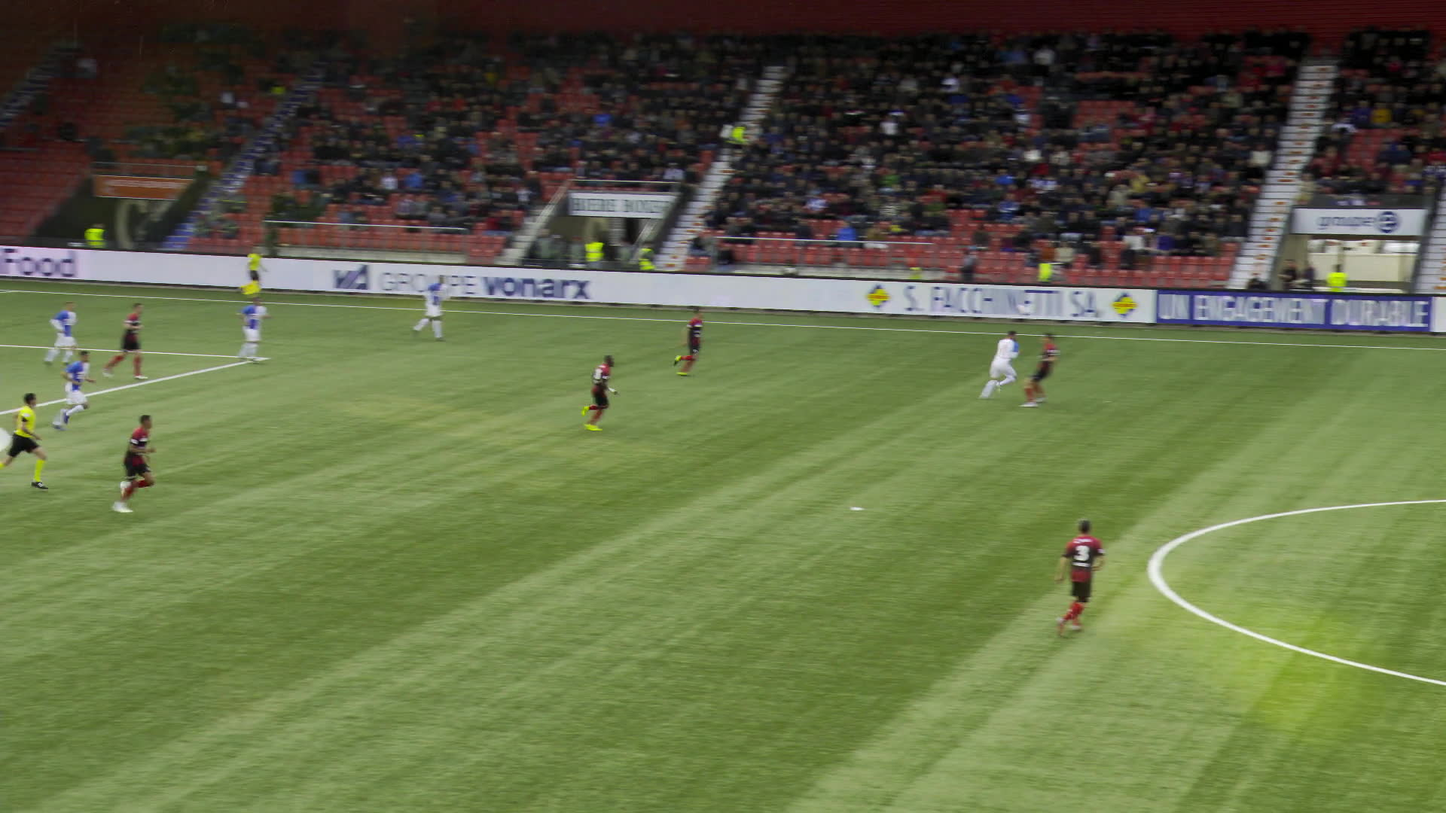ball: (1018, 304, 1034, 313)
player: (1062, 517, 1115, 640), (114, 416, 164, 513), (578, 355, 625, 431), (59, 352, 103, 431), (1027, 332, 1070, 407), (114, 303, 152, 380), (675, 309, 715, 377), (992, 329, 1027, 401), (55, 300, 90, 369), (423, 275, 456, 339), (249, 298, 279, 361)
referee: (0, 393, 56, 492), (240, 244, 272, 300)
